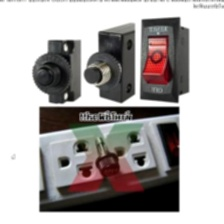three_eye_plug: (37, 112, 182, 212)
